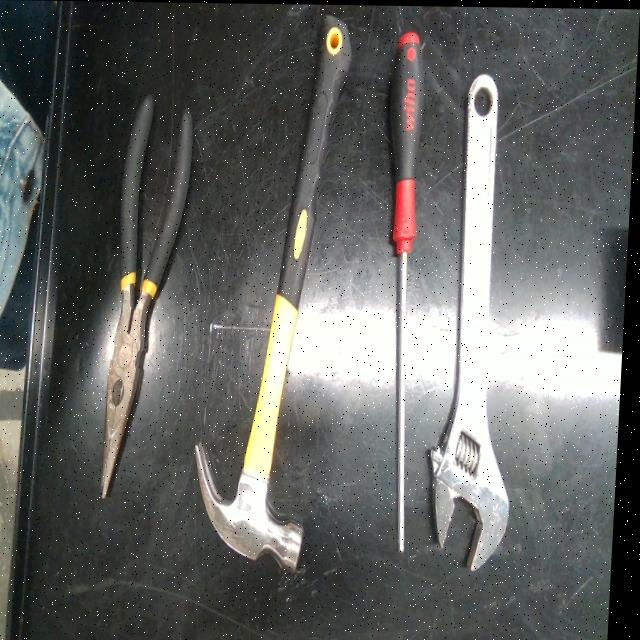Screwdriver: (392, 31, 425, 551)
